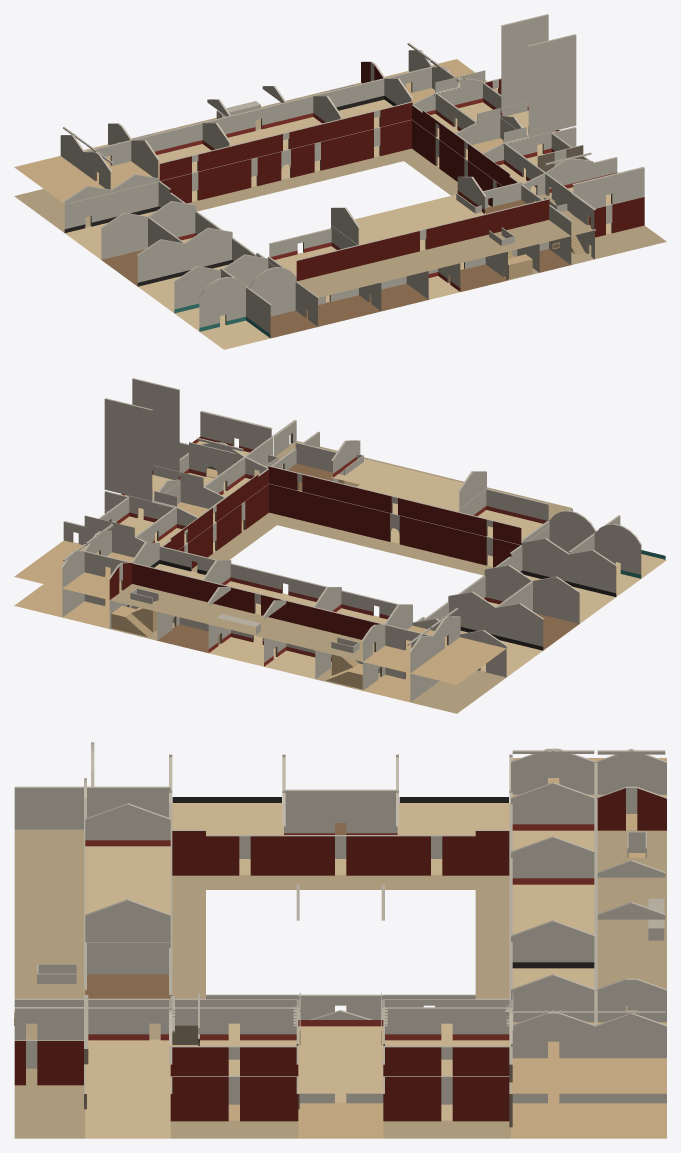
Rendered from rome_transitoria_interior.glb.
3 renders of one model, top to bottom at view 1: azimuth 30°, elevation 25°; view 2: azimuth 150°, elevation 25°; view 3: azimuth 270°, elevation 25°, orthographic. The views are drawn at different scales.
Visible parts, largest first — view 1: rome_transitoria_interior; view 2: rome_transitoria_interior; view 3: rome_transitoria_interior.
Part boxes in pixels (x1,y1,x2,y2): rome_transitoria_interior: (14,14,666,349); rome_transitoria_interior: (14,378,666,713); rome_transitoria_interior: (14,742,666,1138).
Bounding box in the file's own units: 112 × 33.94 × 92.08.
